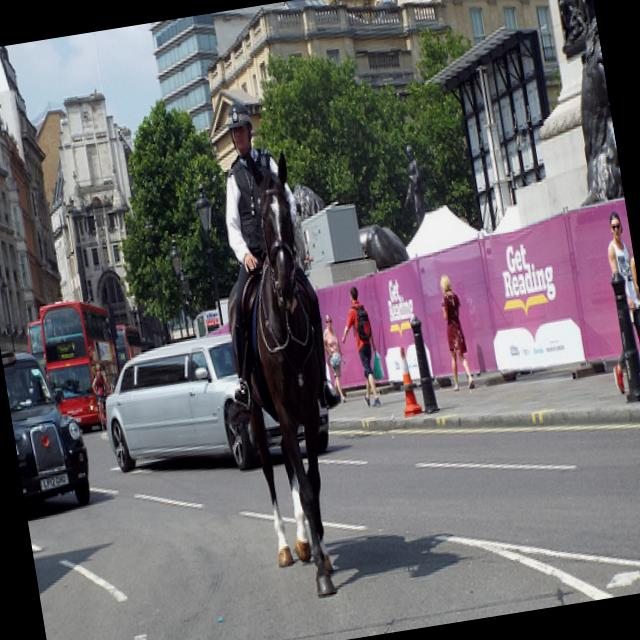Vehicle: (95, 336, 262, 496), (1, 339, 95, 515), (35, 294, 128, 438), (630, 308, 640, 475), (20, 314, 48, 371), (114, 322, 144, 368)
